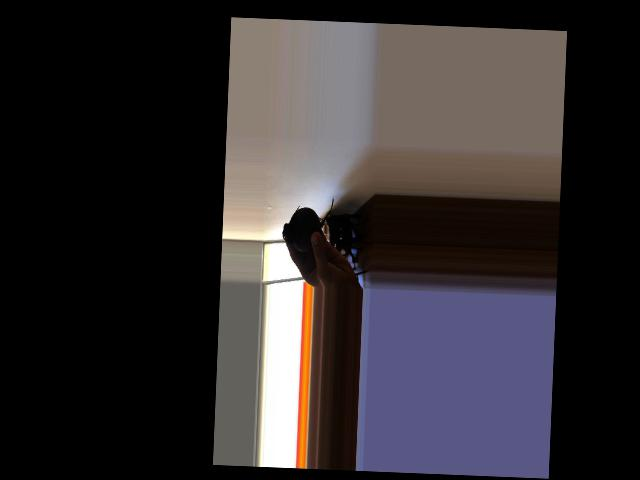beet: (281, 194, 334, 252)
